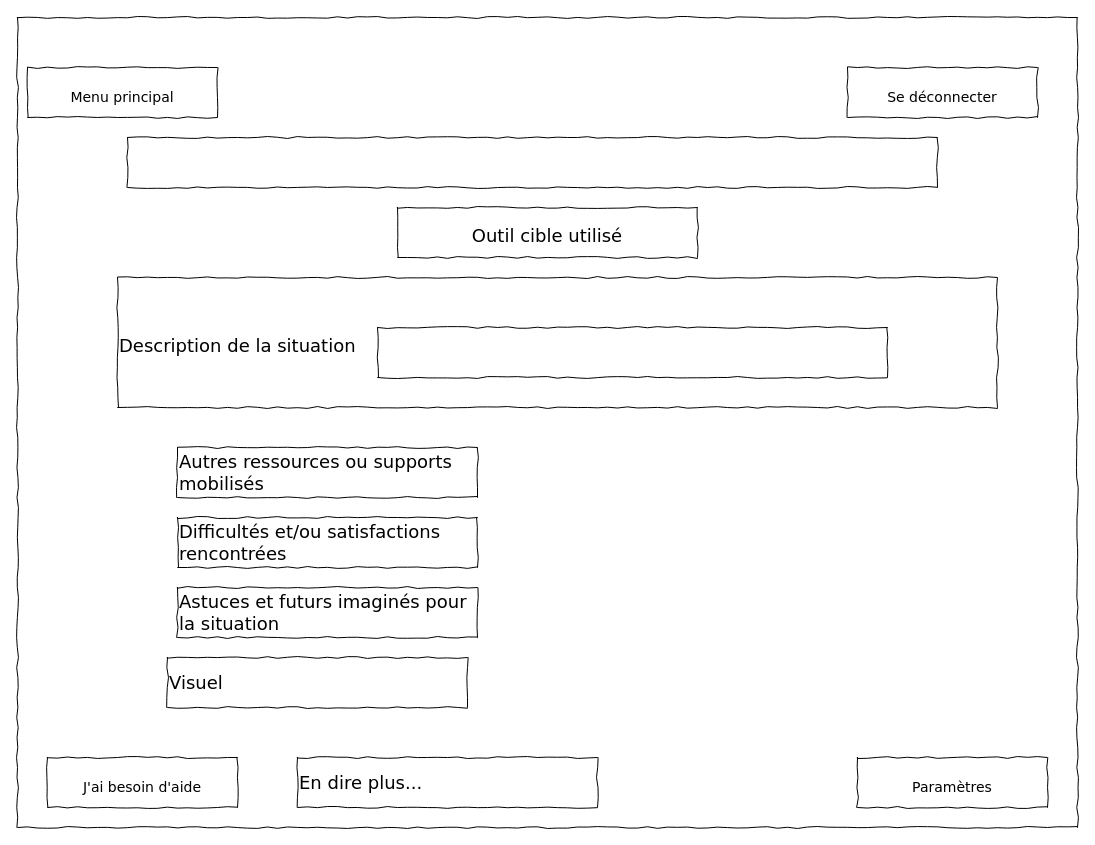
This 1095x845 diagram has some shape labels left out. The shapes that lost their labels are listed below. From the top down, each one's centre as x and y in pixels, then its label:
the point at 532,162: Titre de la situation vécue
the point at 632,352: Lieu(x), personne(s) présent(s), déroulement
